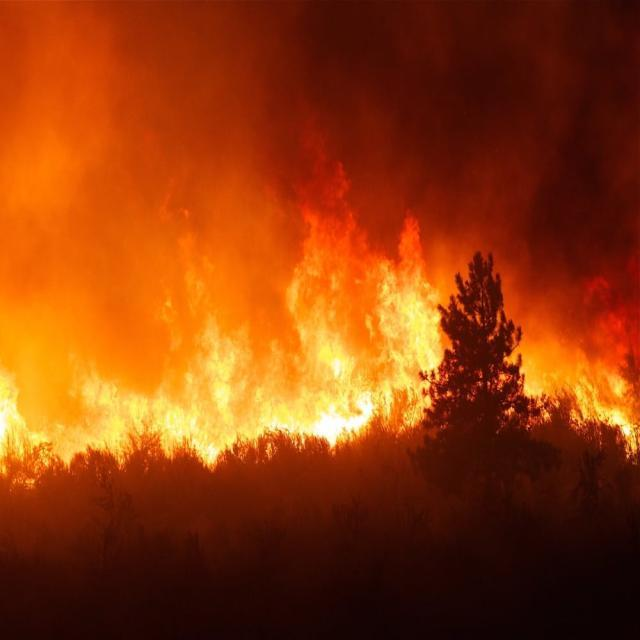Fire: (11, 225, 454, 500), (494, 330, 637, 460)
Smoke: (292, 24, 624, 346)
